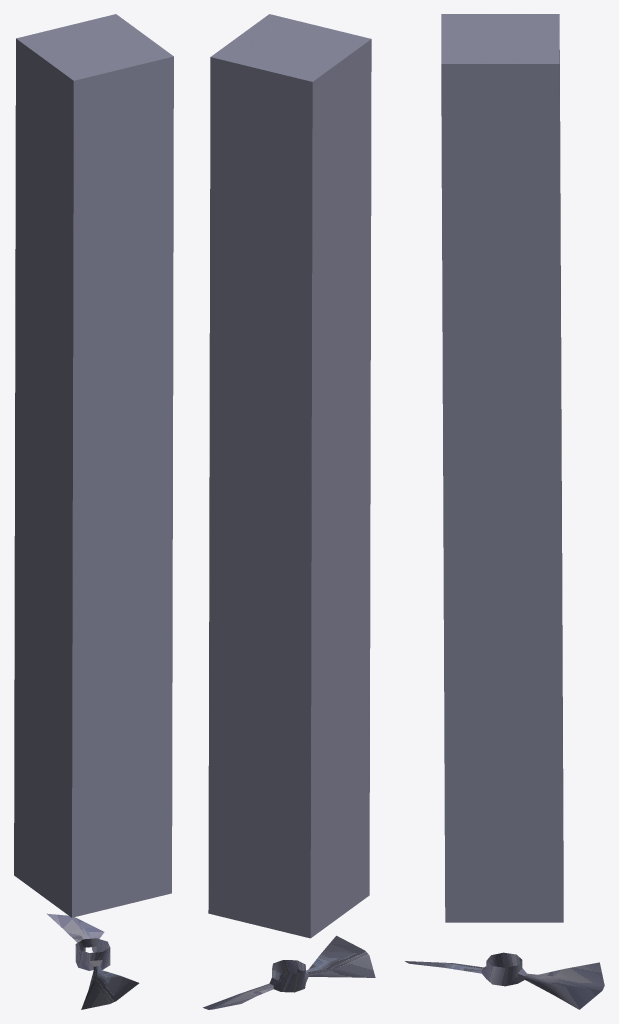
The model's file is P_Modul_18.FBX.
3 renders of one model, left to right at view 1: azimuth 30°, elevation 25°; view 2: azimuth 150°, elevation 25°; view 3: azimuth 270°, elevation 25°, orthographic. The views are drawn at different scales.
Visible parts, largest first — view 1: P_Modul_18_Kollisionsquader, P_Modul_18_Rotor; view 2: P_Modul_18_Kollisionsquader, P_Modul_18_Rotor; view 3: P_Modul_18_Kollisionsquader, P_Modul_18_Rotor.
Boxes of the visible parts, x1=… form: P_Modul_18_Kollisionsquader: x1=14, y1=14, x2=173, y2=917; P_Modul_18_Rotor: x1=47, y1=913, x2=139, y2=1009; P_Modul_18_Kollisionsquader: x1=208, y1=14, x2=371, y2=938; P_Modul_18_Rotor: x1=203, y1=935, x2=375, y2=1009; P_Modul_18_Kollisionsquader: x1=441, y1=14, x2=563, y2=922; P_Modul_18_Rotor: x1=405, y1=952, x2=604, y2=1009.
Bounding box in the file's own units: 2 × 17.66 × 3.39.
1 material, 1 textured.
